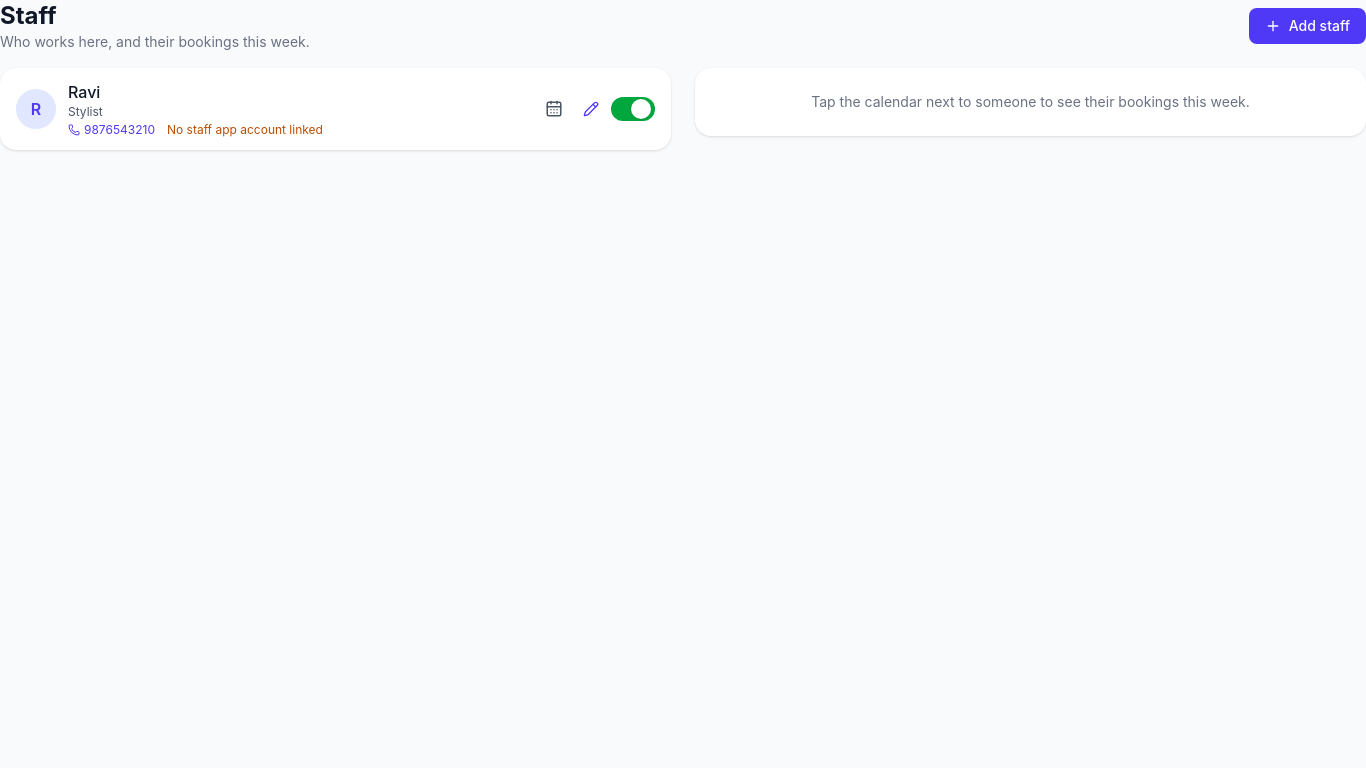
Test: StaffPage › edits a staff member and links their app account
expect the text "No staff app account linked" is shown: met, box [167, 122, 323, 138]
Click the button named "Edit Ravi" at x=591, y=109, box [575, 93, 607, 125]
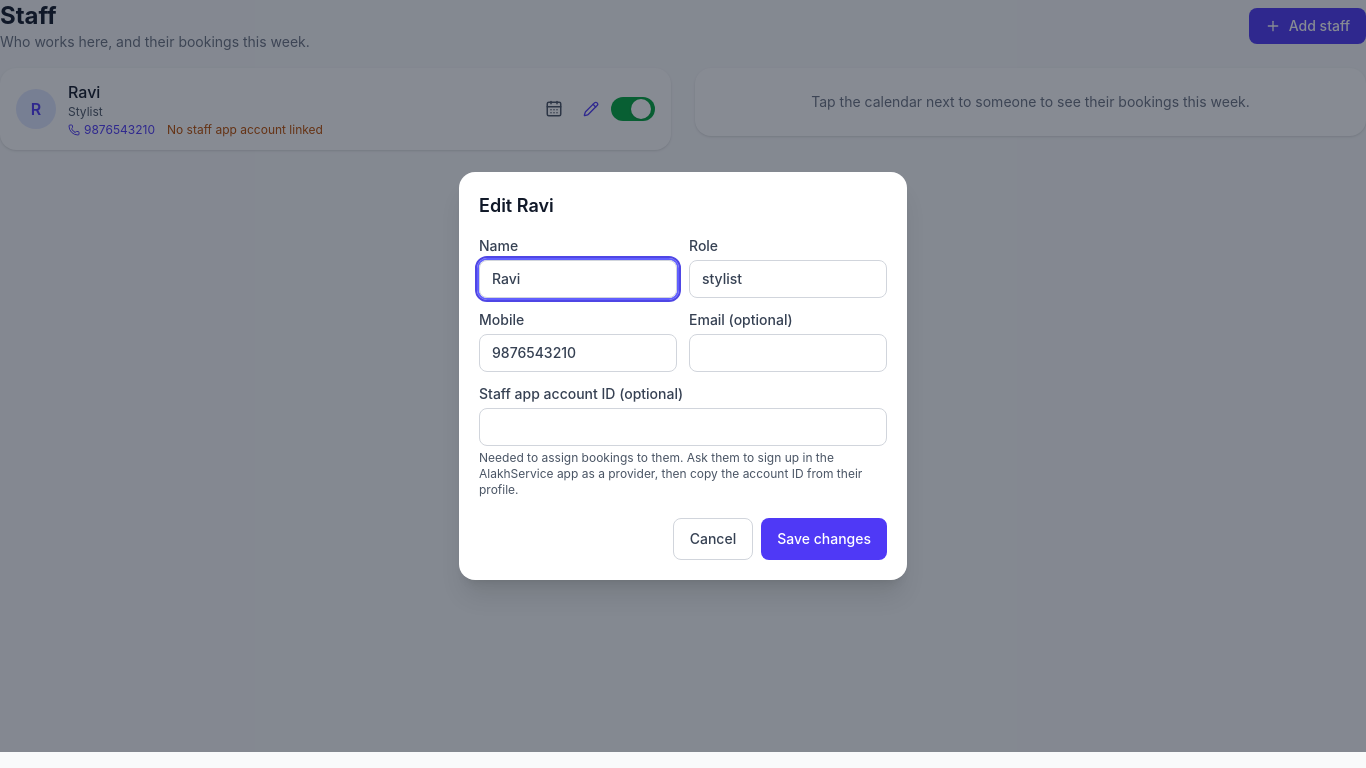
expect the field labelled "Mobile" holds "9876543210": met, box [479, 334, 677, 372]
Type "user-ravi" into the field labelled "Staff app account ID (optional)" at x=683, y=427, box [479, 408, 887, 446]
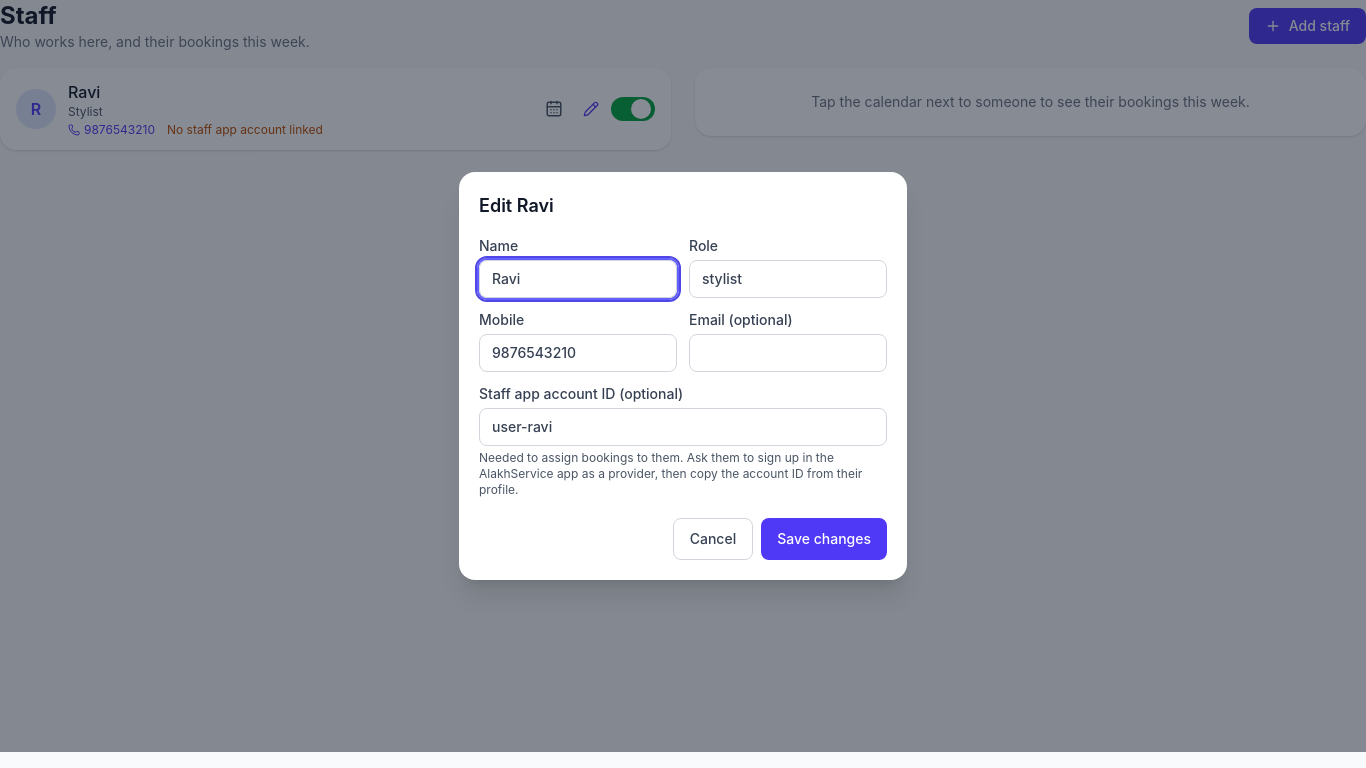
Click the button "Save changes" at x=824, y=539, box [761, 518, 887, 560]
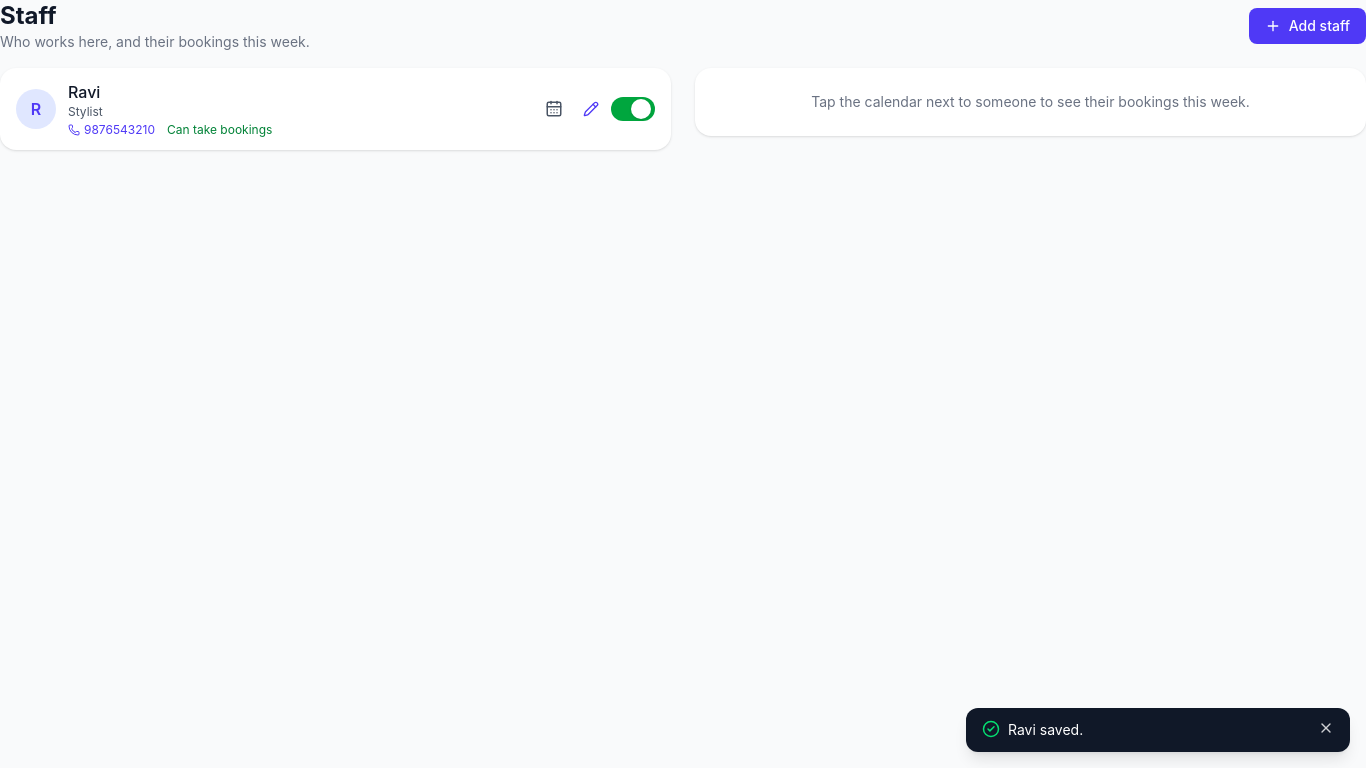
expect the text "Ravi saved." is shown: met, box [1008, 721, 1083, 738]
expect the text "Can take bookings" is shown: met, box [167, 122, 272, 138]
